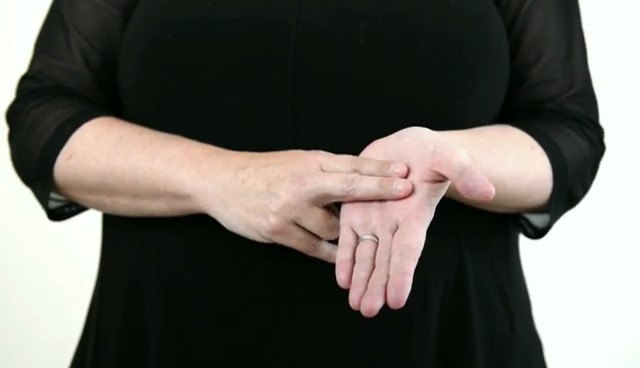N: (174, 114, 508, 328)
